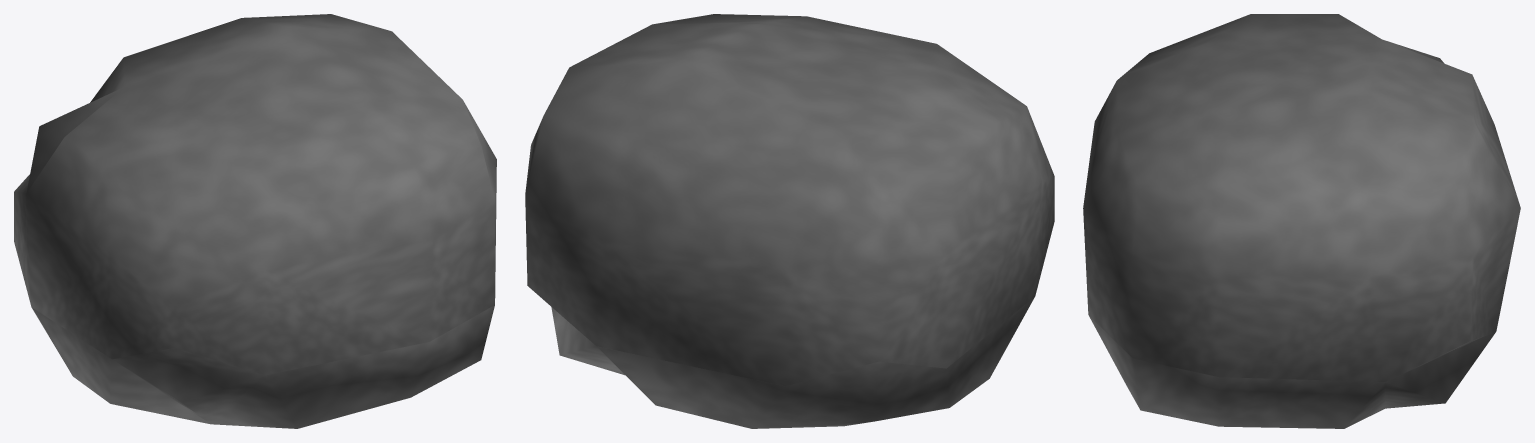
Rendered from rock.fbx.
3 renders of one model, left to right at view 1: azimuth 30°, elevation 25°; view 2: azimuth 150°, elevation 25°; view 3: azimuth 270°, elevation 25°, orthographic. The views are drawn at different scales.
Visible parts, largest first — view 1: ROCK; view 2: ROCK; view 3: ROCK.
Boxes of the visible parts, box(x1,y1,x2,y2) form: ROCK: box(14, 14, 496, 428); ROCK: box(525, 14, 1054, 428); ROCK: box(1083, 14, 1520, 428).
Size of the model in its own units: 3.91 by 2.95 by 3.64.
